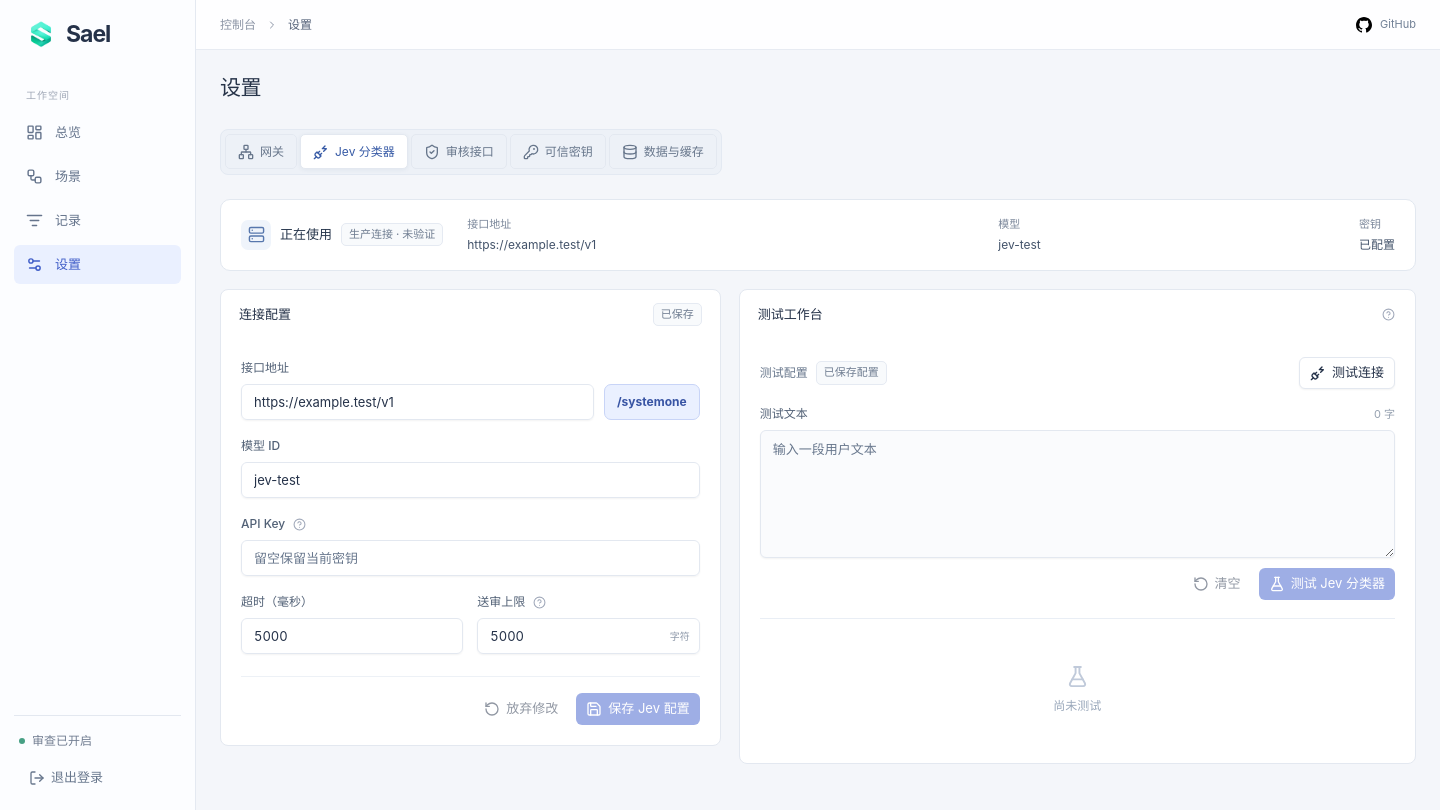
Test: tests both Jev connection and text independently of model-scoped production scenes (enabled=true)
Click the button "测试连接" at coordinates (1347, 373), box [1299, 357, 1395, 389]
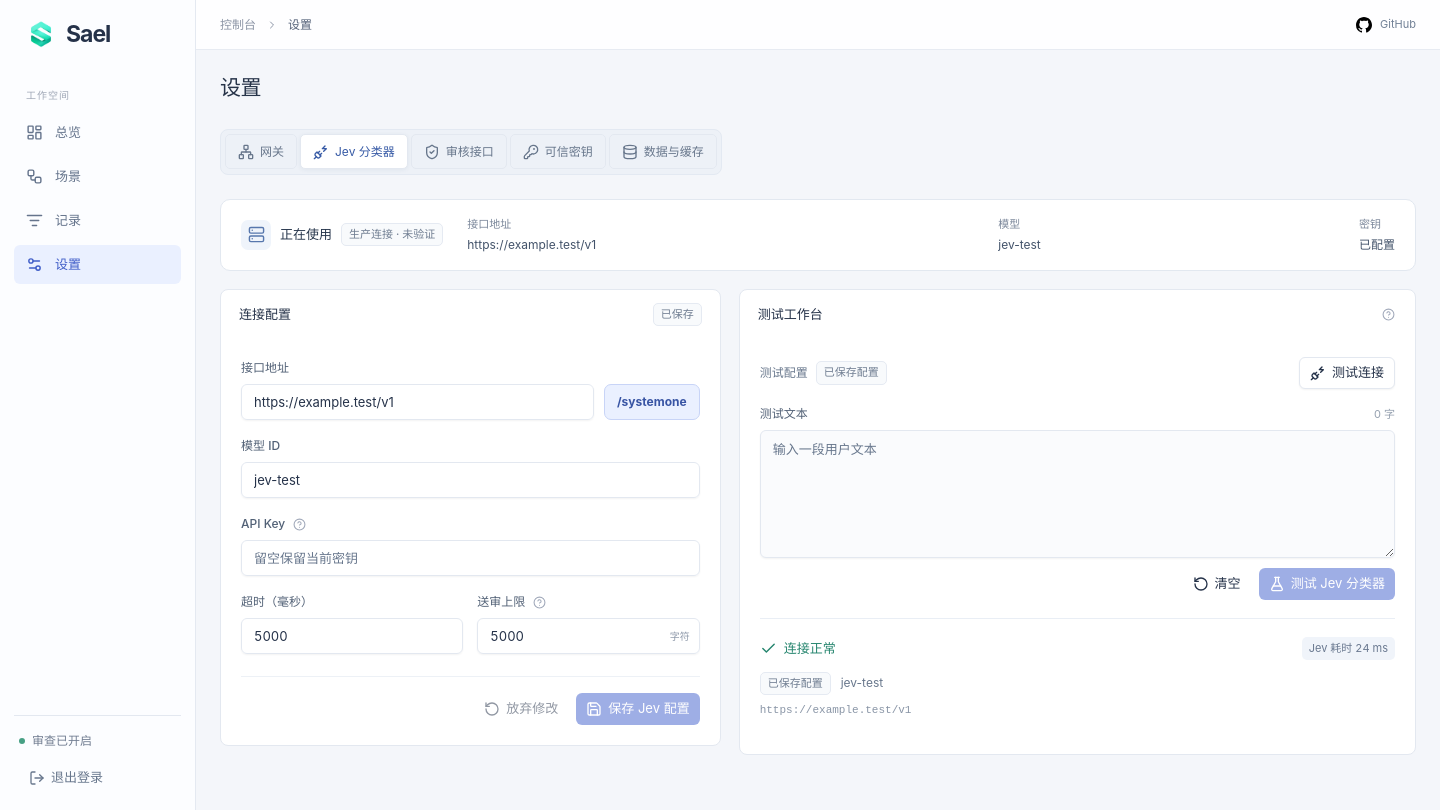
Result: the text "连接正常" is shown at [784, 638, 836, 658]
Type "a real classification test" into the text box labelled "测试文本" at coordinates (1077, 494), box [760, 430, 1395, 558]
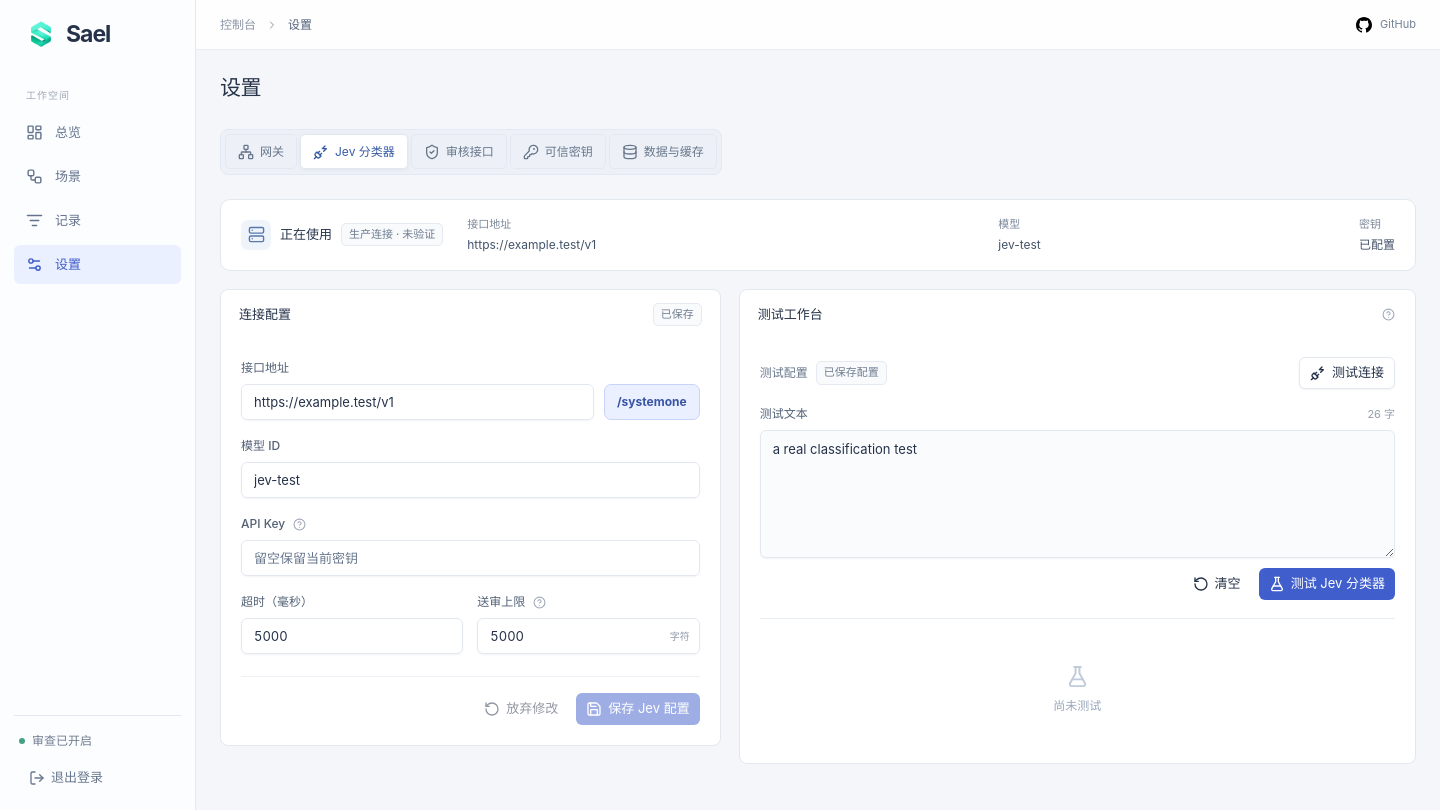
Click the button "测试 Jev 分类器" at coordinates (1327, 584), box [1259, 568, 1395, 600]
(page scrolled)
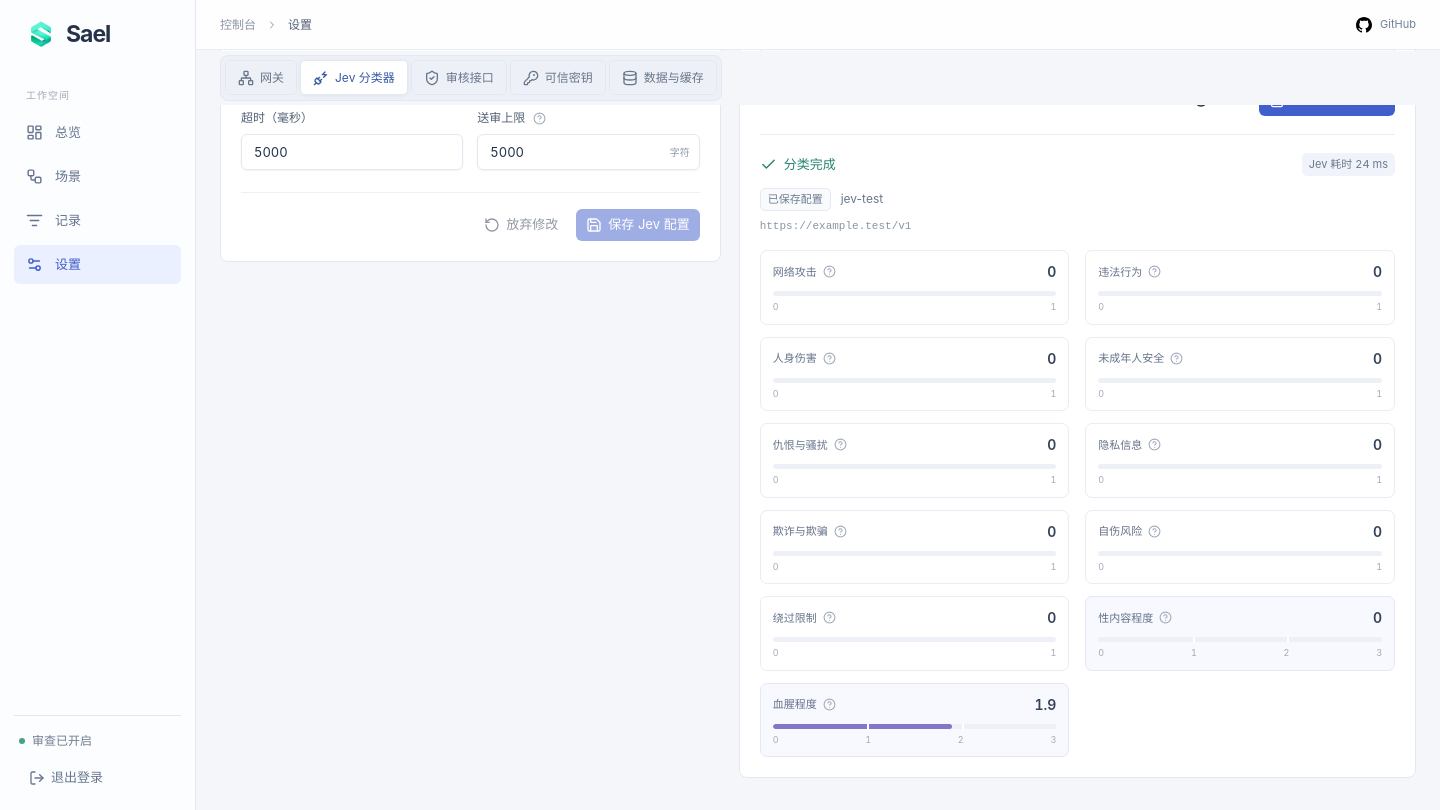
Result: the text "1.9" is shown at [1034, 694, 1056, 715]
Result: the text "血腥程度" is shown at [773, 696, 838, 713]
Result: the text "自伤风险" is shown at [1098, 523, 1163, 540]
